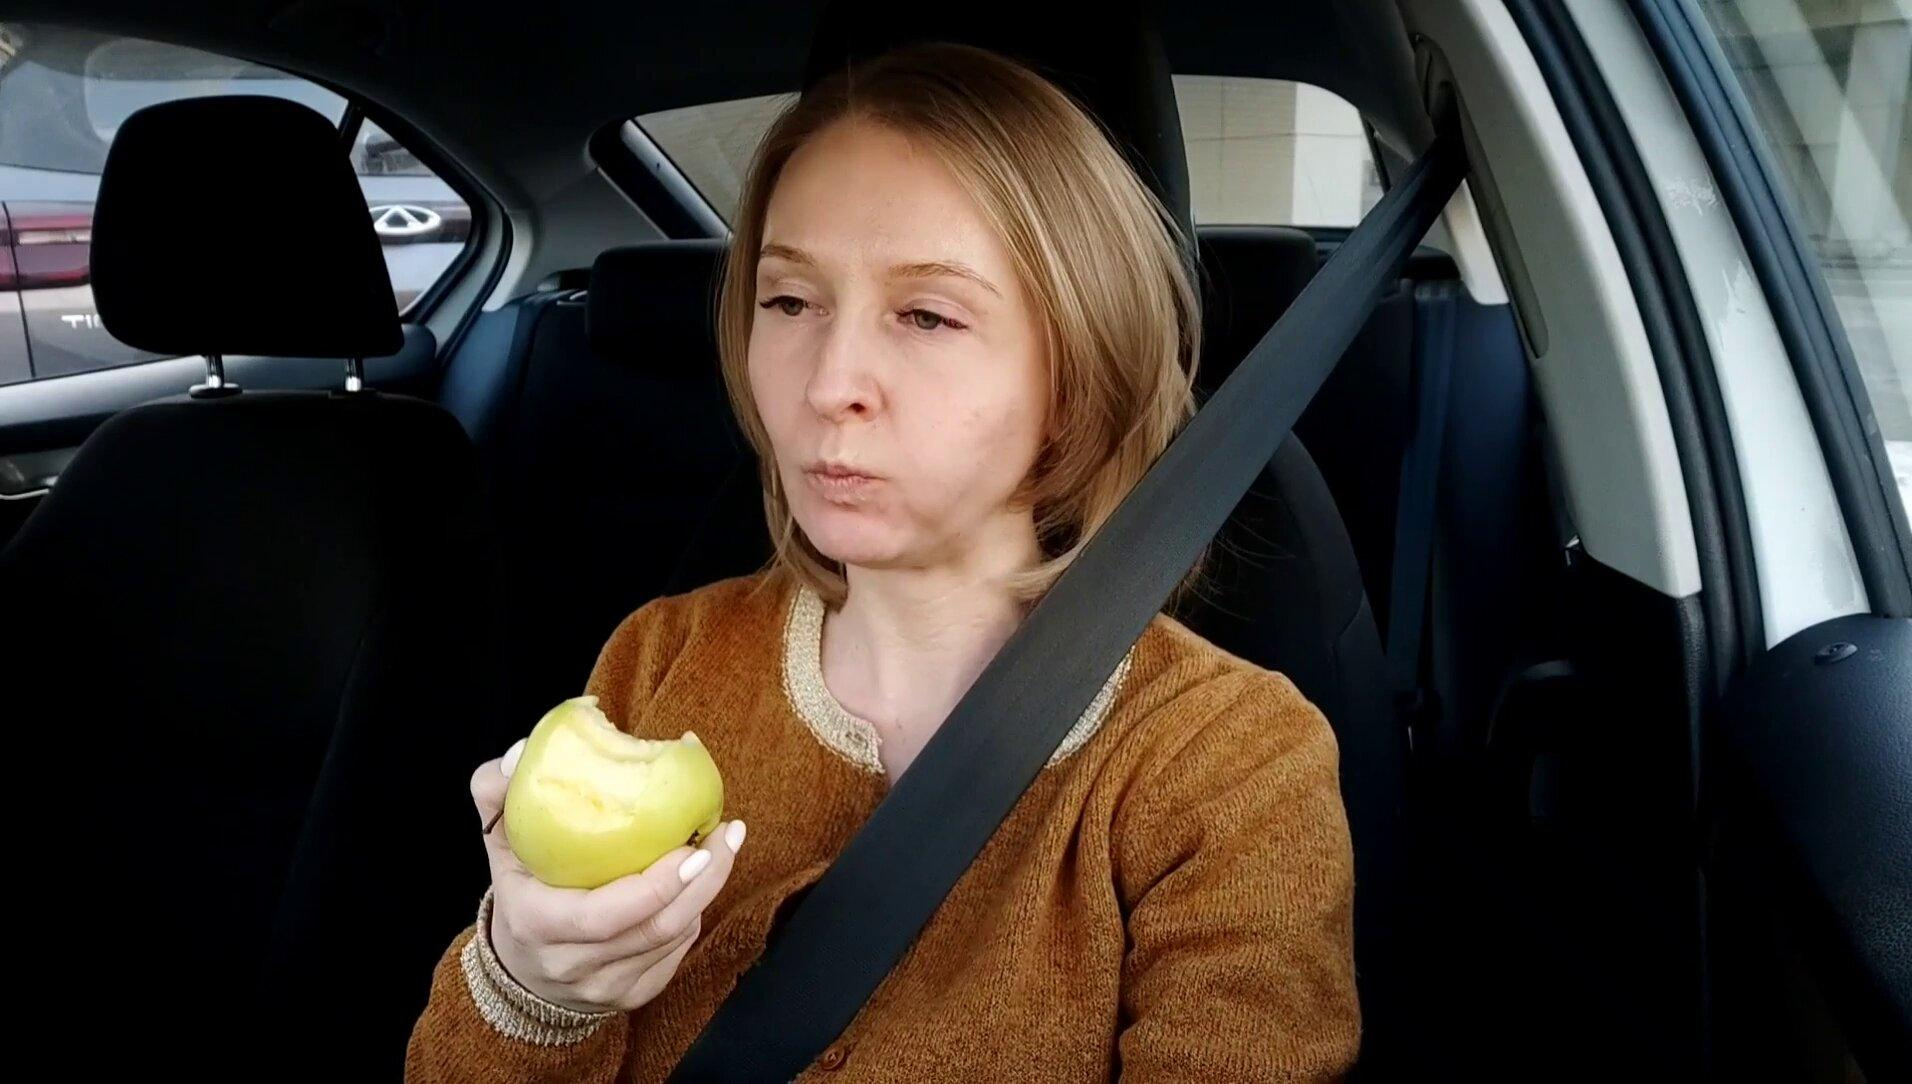Eating: (491, 687, 735, 892)
